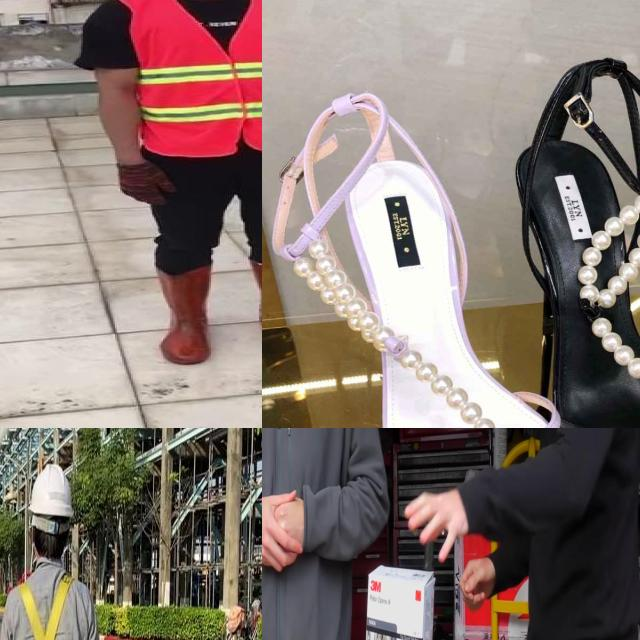Harness: (0, 568, 95, 640)
Sandals: (262, 54, 610, 428), (510, 31, 640, 428)
boots: (154, 266, 213, 364)
hand_noglove: (404, 489, 469, 562), (262, 491, 304, 573), (460, 557, 496, 611)
person: (79, 0, 262, 367)
vest: (124, 0, 262, 155)
